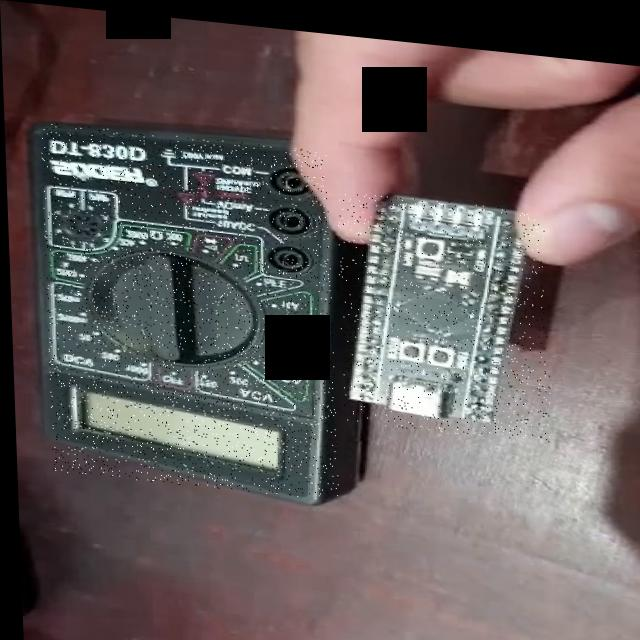multimeter: (39, 121, 336, 494), (334, 183, 549, 432)
